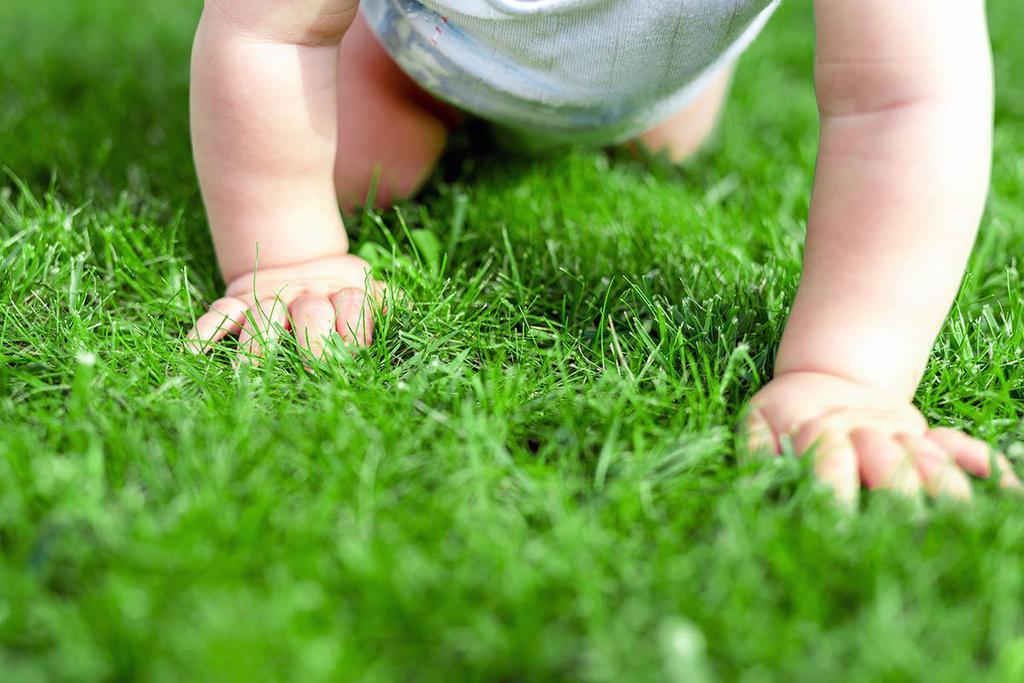child: (161, 1, 1024, 532)
